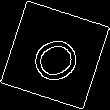O_NE: (22, 24, 88, 86)
